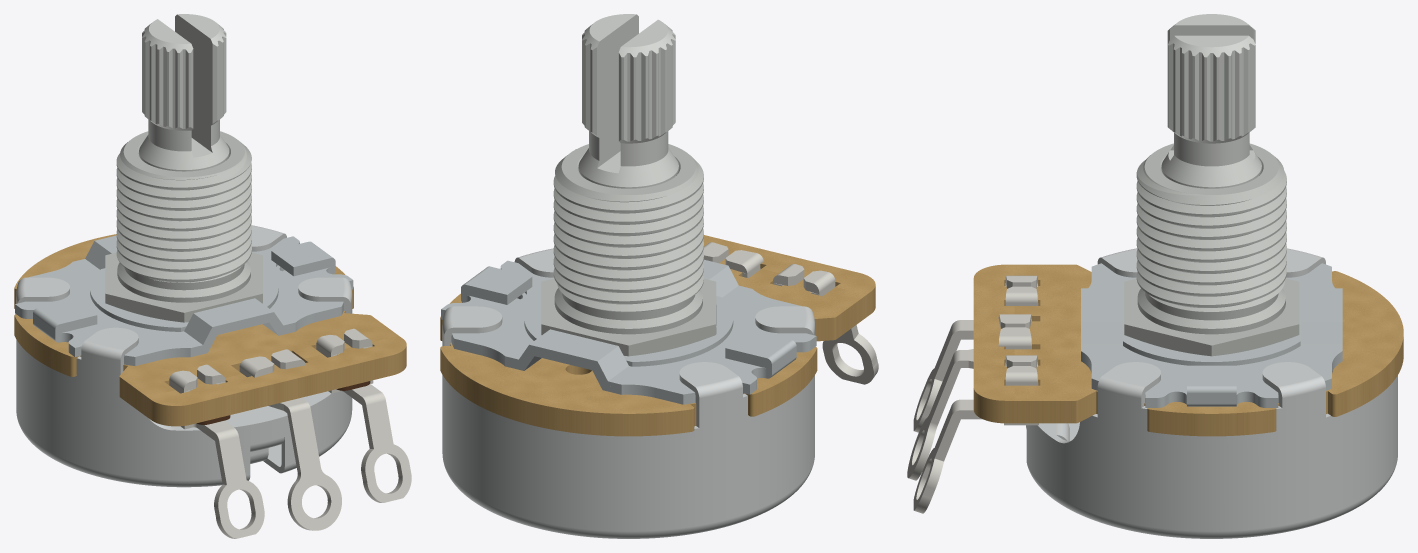
3 renders of one model, left to right at view 1: azimuth 30°, elevation 25°; view 2: azimuth 150°, elevation 25°; view 3: azimuth 270°, elevation 25°, orthographic. The views are drawn at different scales.
Visible parts, largest first — view 1: stamped_tin_case, threaded_bushing, amber_phenolic_wafer, stamped_mounting_plate, split_knurled_shaft, wiper_terminal, terminal_1, terminal_3; view 2: stamped_tin_case, threaded_bushing, amber_phenolic_wafer, stamped_mounting_plate, split_knurled_shaft, terminal_1, wiper_terminal; view 3: stamped_tin_case, threaded_bushing, amber_phenolic_wafer, stamped_mounting_plate, split_knurled_shaft, wiper_terminal, terminal_3, terminal_1.
Part boxes in pixels (box(x1,y1,x2,y2)): stamped_tin_case: box(16, 225, 352, 487); threaded_bushing: box(105, 131, 262, 322); amber_phenolic_wafer: box(14, 234, 406, 426); stamped_mounting_plate: box(15, 235, 353, 365); split_knurled_shaft: box(139, 14, 229, 171); wiper_terminal: box(239, 349, 341, 530); terminal_1: box(169, 364, 264, 538); terminal_3: box(316, 328, 411, 502); stamped_tin_case: box(442, 248, 814, 538); threaded_bushing: box(541, 144, 716, 356); amber_phenolic_wafer: box(440, 235, 875, 436); stamped_mounting_plate: box(441, 259, 816, 404); split_knurled_shaft: box(578, 14, 678, 188); terminal_1: box(773, 264, 878, 384); wiper_terminal: box(703, 242, 763, 278); stamped_tin_case: box(1026, 248, 1397, 538); threaded_bushing: box(1124, 143, 1299, 356); amber_phenolic_wafer: box(973, 264, 1403, 436); stamped_mounting_plate: box(1081, 263, 1342, 407); split_knurled_shaft: box(1161, 14, 1261, 188); wiper_terminal: box(907, 314, 1031, 480); terminal_3: box(913, 355, 1038, 513); terminal_1: box(913, 275, 1038, 432).
Bounding box in the file's own units: 0.0243 × 0.0313 × 0.0315.
Materials: 8 (1 with a texture image).
